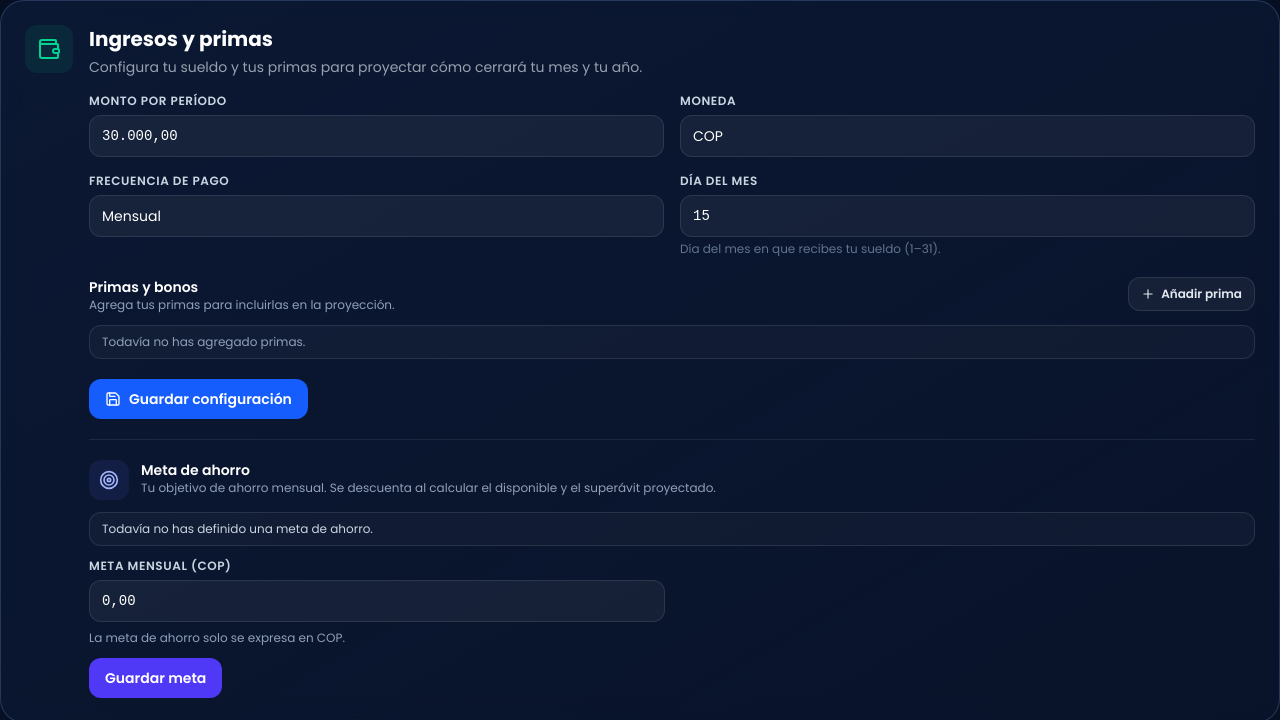
Test: SalarySettingsSection › maps a failed target save to the localized error
Expected: the field labelled "Meta mensual (COP)" is shown, [89, 580, 665, 622]
Click the button "Guardar meta" at (156, 678), box [89, 658, 222, 698]
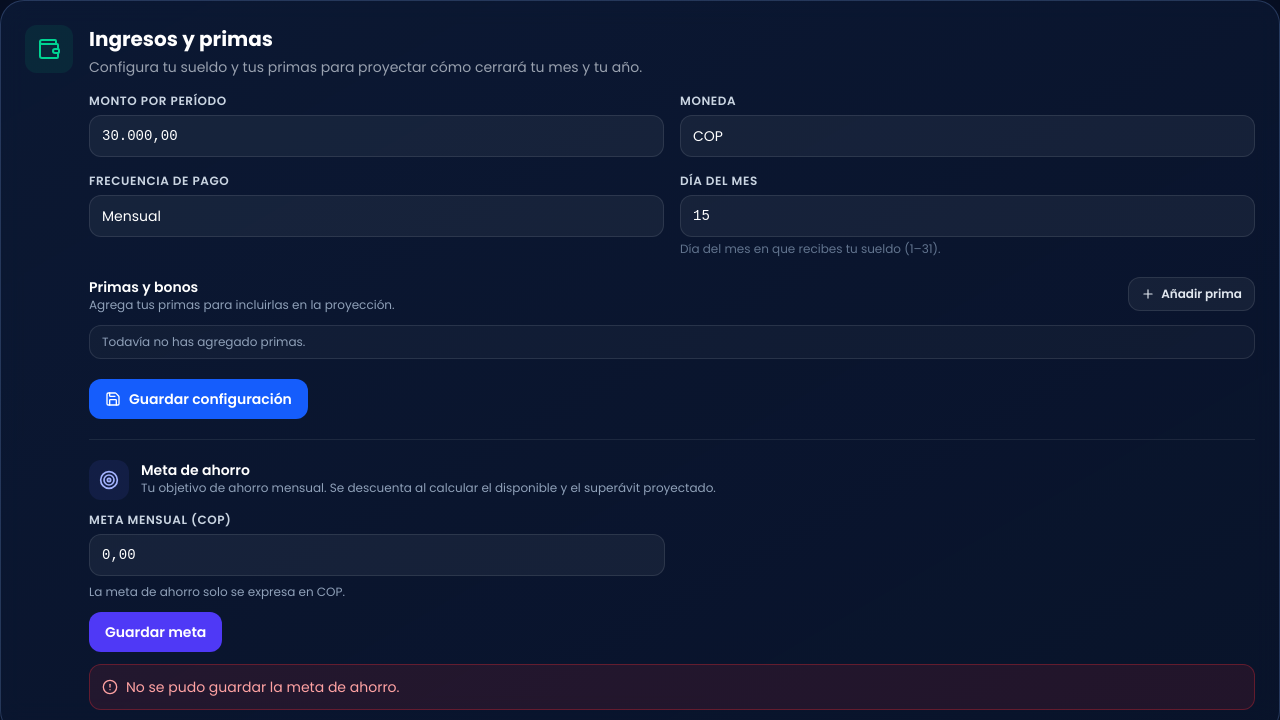
Now the text "No se pudo guardar la meta de ahorro." is shown, box [89, 664, 1255, 710]
